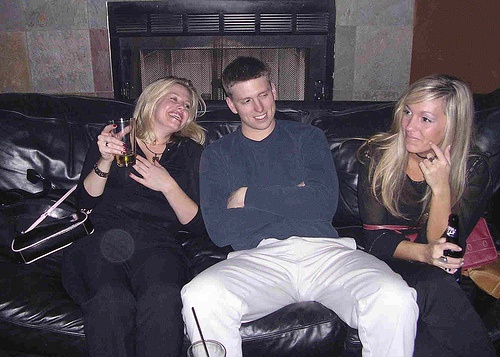head: (402, 76, 473, 154), (133, 73, 204, 151), (220, 52, 283, 132)
person: (183, 51, 424, 353), (64, 72, 222, 357), (346, 74, 500, 355)
